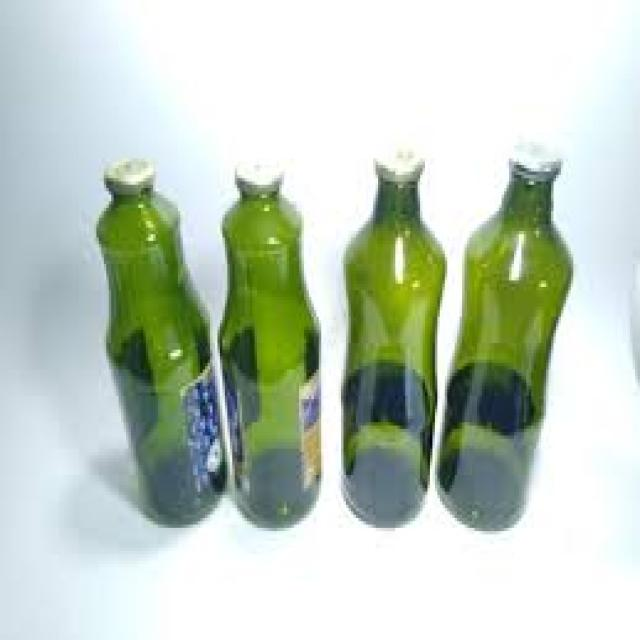glass: (433, 168, 574, 528), (94, 192, 222, 522), (338, 172, 445, 521), (215, 185, 316, 525)
metal: (507, 135, 559, 175), (371, 145, 423, 178), (233, 152, 280, 188), (102, 155, 149, 188)
